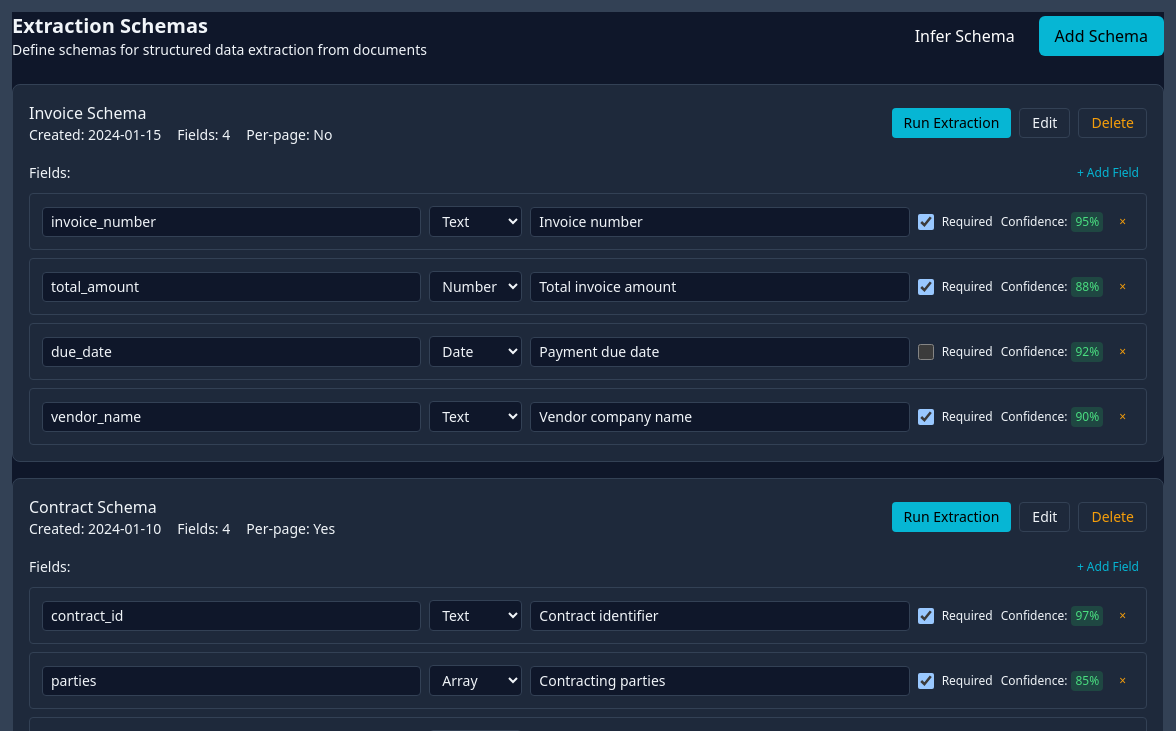
Scenario: SchemaEditor › can delete fields
// Delete first field
Click the button "×" next to "95" at (1123, 222), box [1111, 210, 1134, 234]
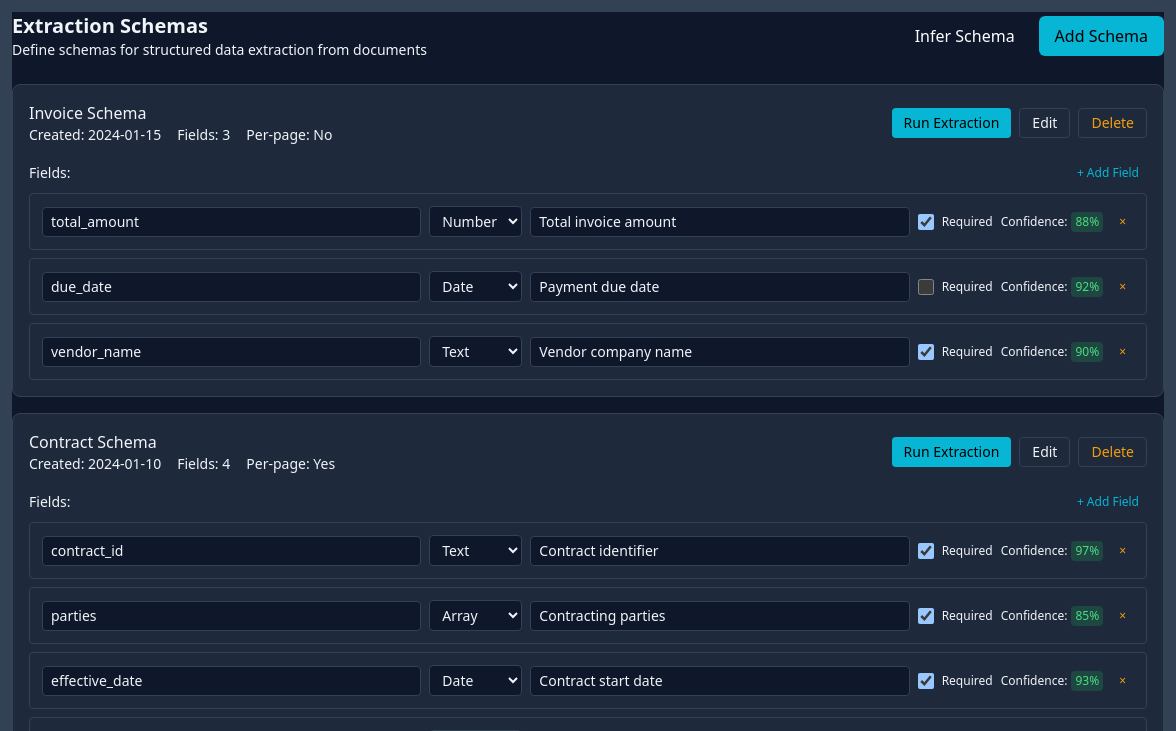
Check: the number of buttons "×" is 7
